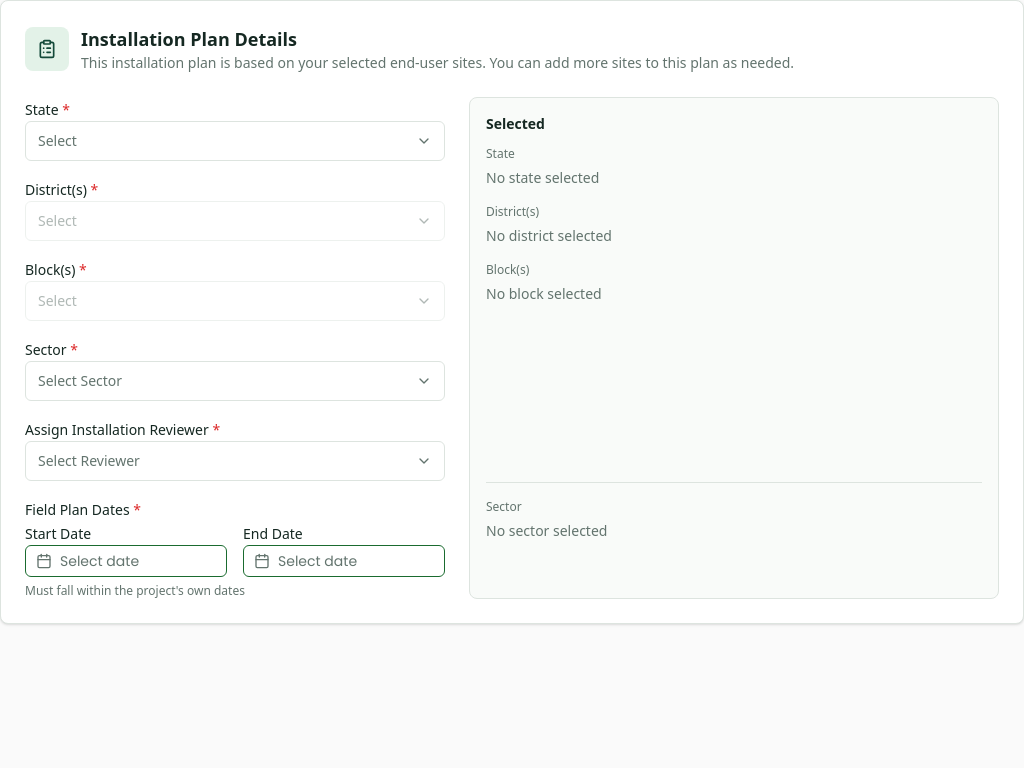
PlanDetailsStep › only offers state options that belong to the project's own geography
Click the button named "State".
click(57, 140)  # box 25,121 -> 445,161
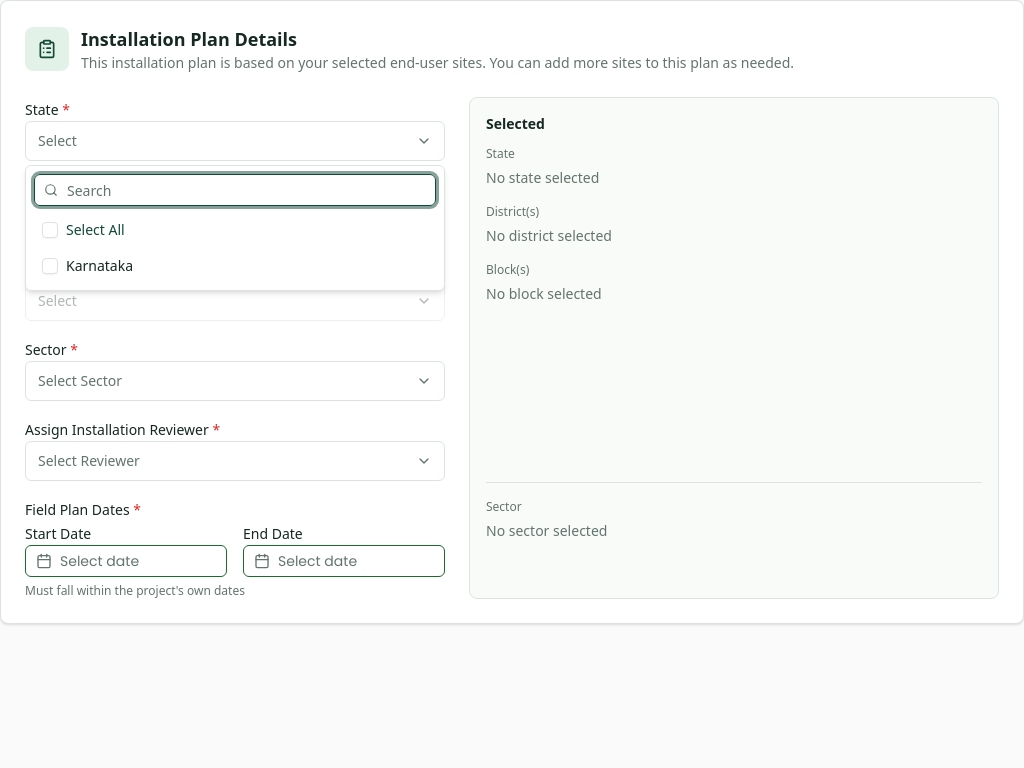
Result: the text "Karnataka" is shown at 66,256 -> 133,276
